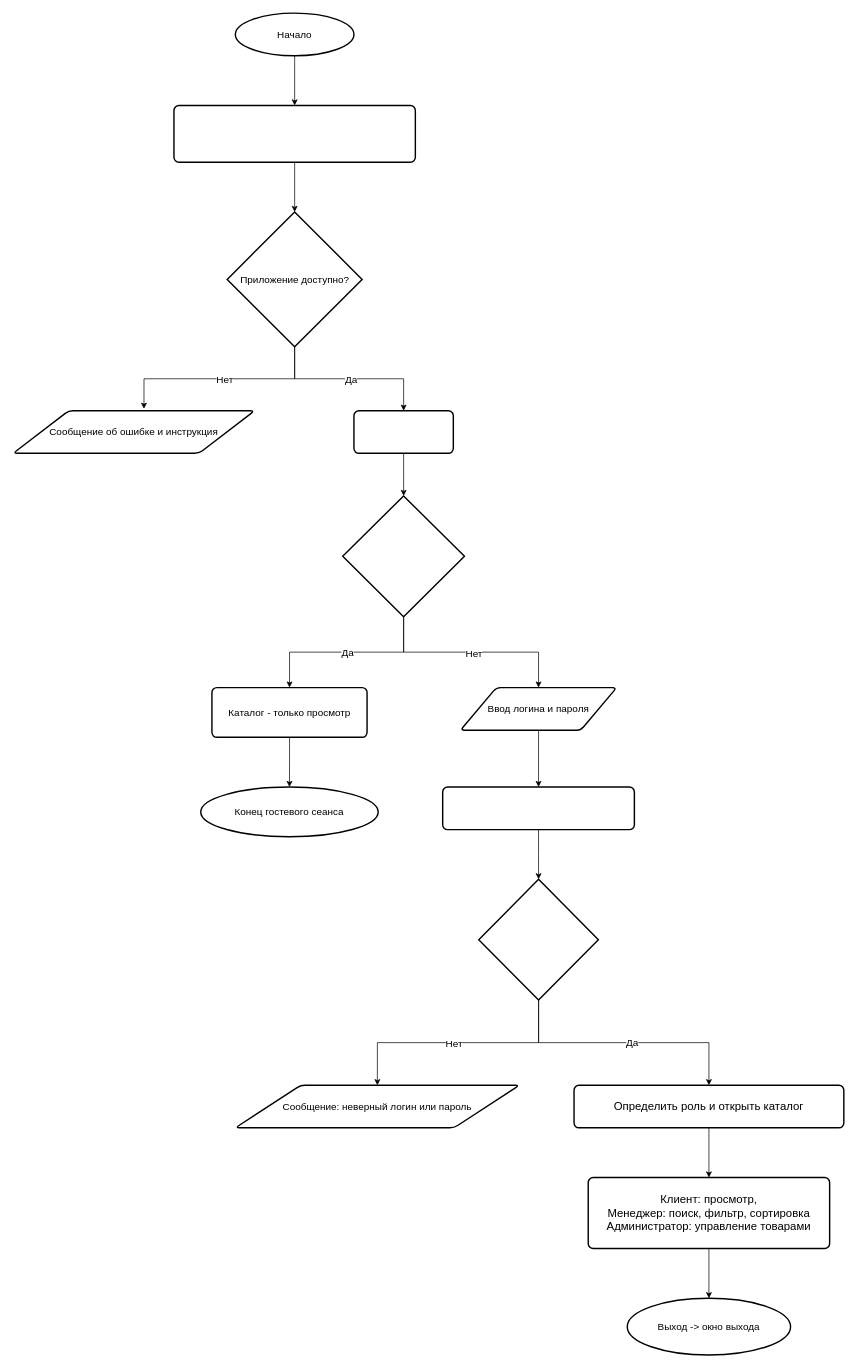
This 856x1367 diagram has some shape labels left out. Here are the shapes that lost their labels. From the top down, the centre of each, then its label:
point (294, 133): Запуск приложения и подключение к БД
point (403, 432): Окно входа
point (403, 556): Вход гостем?
point (538, 808): Проверить учётные данные в БД
point (538, 939): Данные верны?
